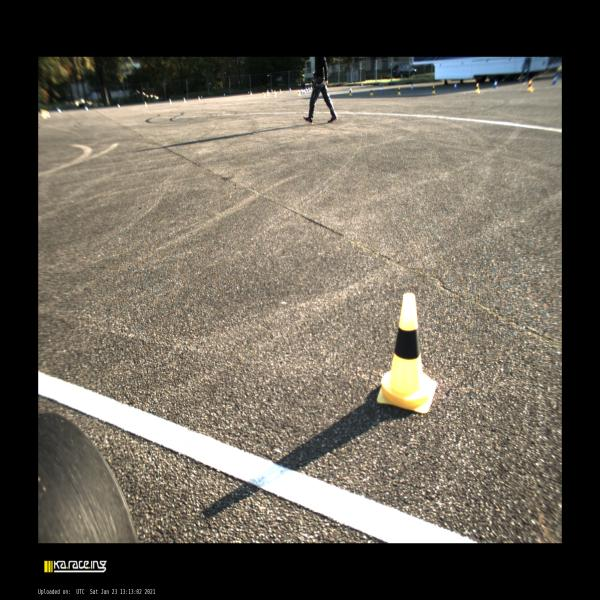blue_cone: (492, 78, 497, 88), (552, 75, 557, 85), (453, 81, 457, 90), (410, 83, 414, 91), (379, 86, 383, 92), (117, 103, 120, 109), (300, 88, 302, 94), (303, 88, 305, 94), (350, 87, 352, 93), (85, 107, 88, 111), (289, 87, 291, 92), (305, 87, 307, 92), (200, 95, 202, 99), (271, 89, 273, 92), (308, 87, 309, 91), (224, 93, 225, 97), (248, 91, 249, 94)
yellow_cone: (378, 294, 438, 414), (527, 78, 535, 92), (474, 82, 480, 94), (431, 84, 436, 94), (397, 86, 402, 96), (348, 89, 352, 96), (370, 88, 373, 96), (144, 101, 148, 107), (273, 92, 276, 98), (266, 91, 269, 97), (183, 97, 186, 103), (262, 92, 265, 97), (169, 99, 172, 104), (298, 90, 300, 96), (198, 96, 200, 101), (279, 89, 281, 93), (250, 91, 252, 95)
